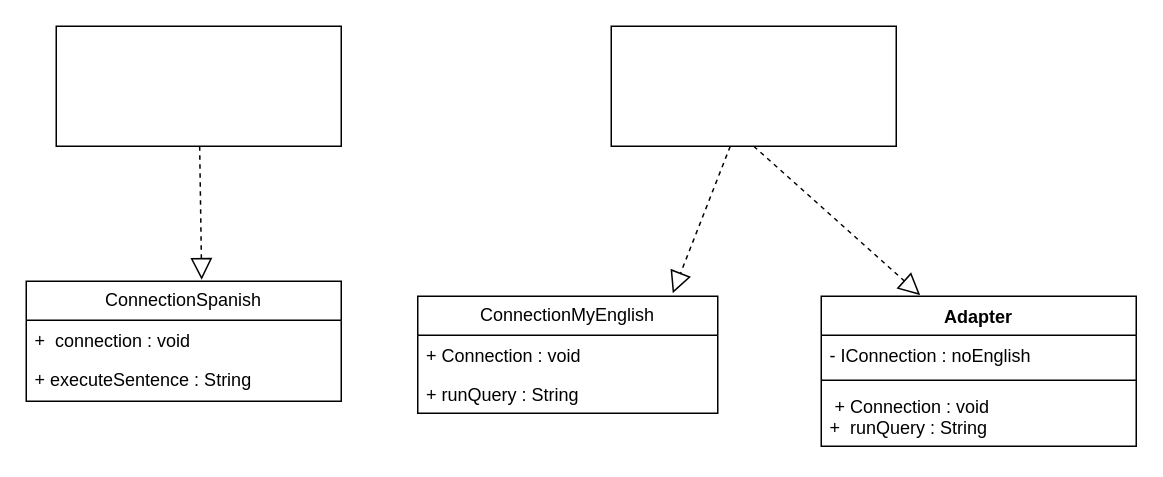
Some shapes in this 1163 by 477 pixel diagram are drawn without their labels. The centre of each missing label's shape, as x and y in pixels:
<<Interface>> IConnectionEnglish void connection(); String runQuery();: [753,85]
<<Interface>> IConnectionNoEnglish void connection(); String executeSentence();: [198,85]
